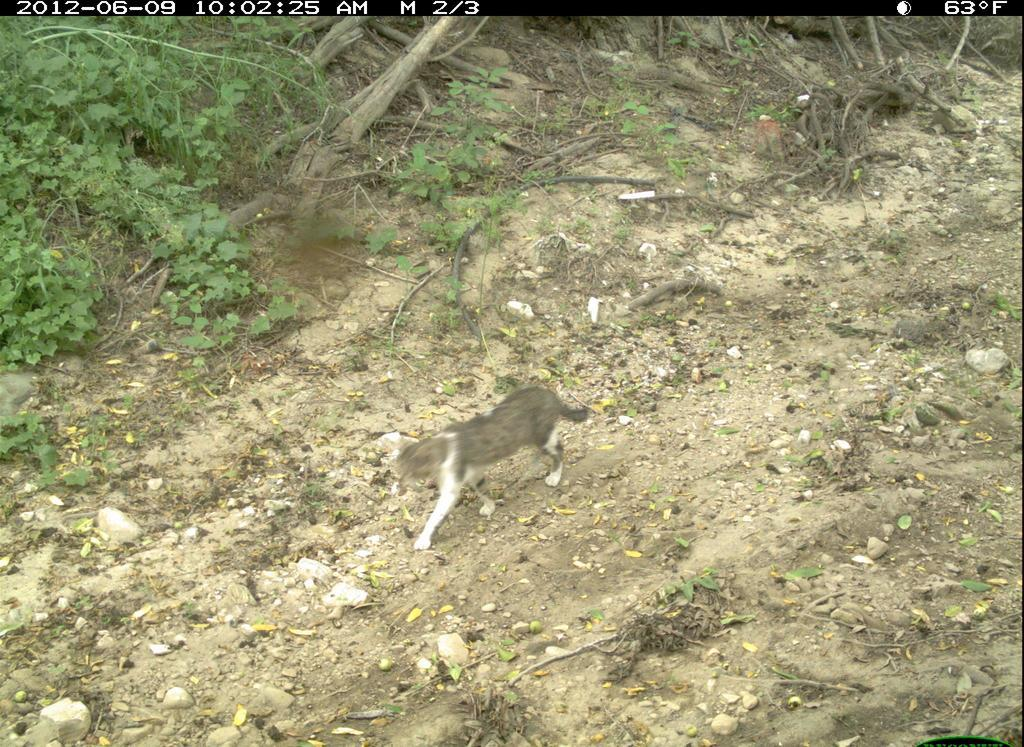cat: (385, 379, 594, 556)
